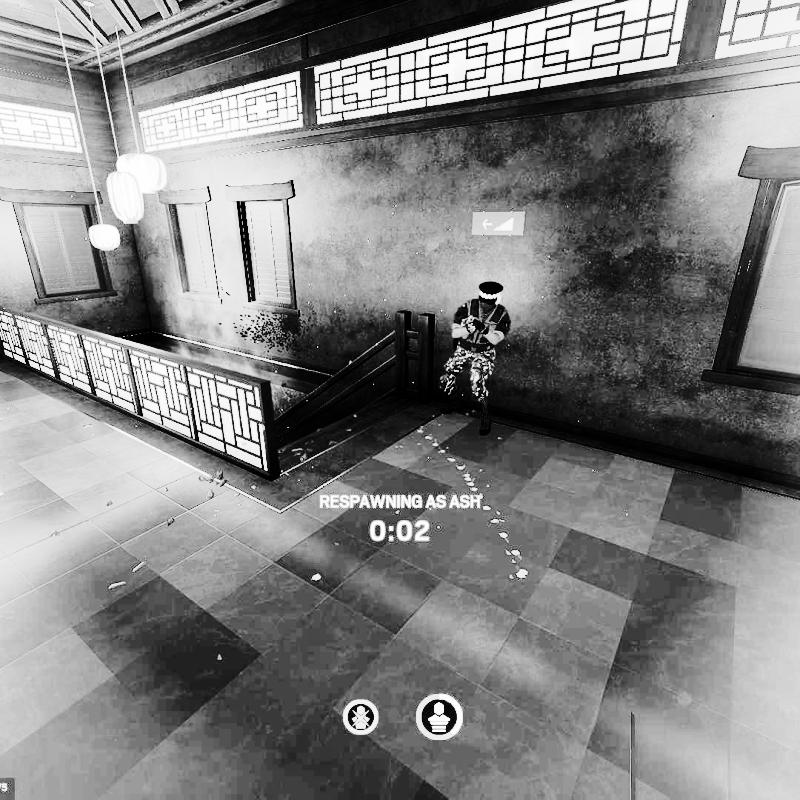Character: (433, 277, 512, 442)
Head: (476, 279, 504, 311)
